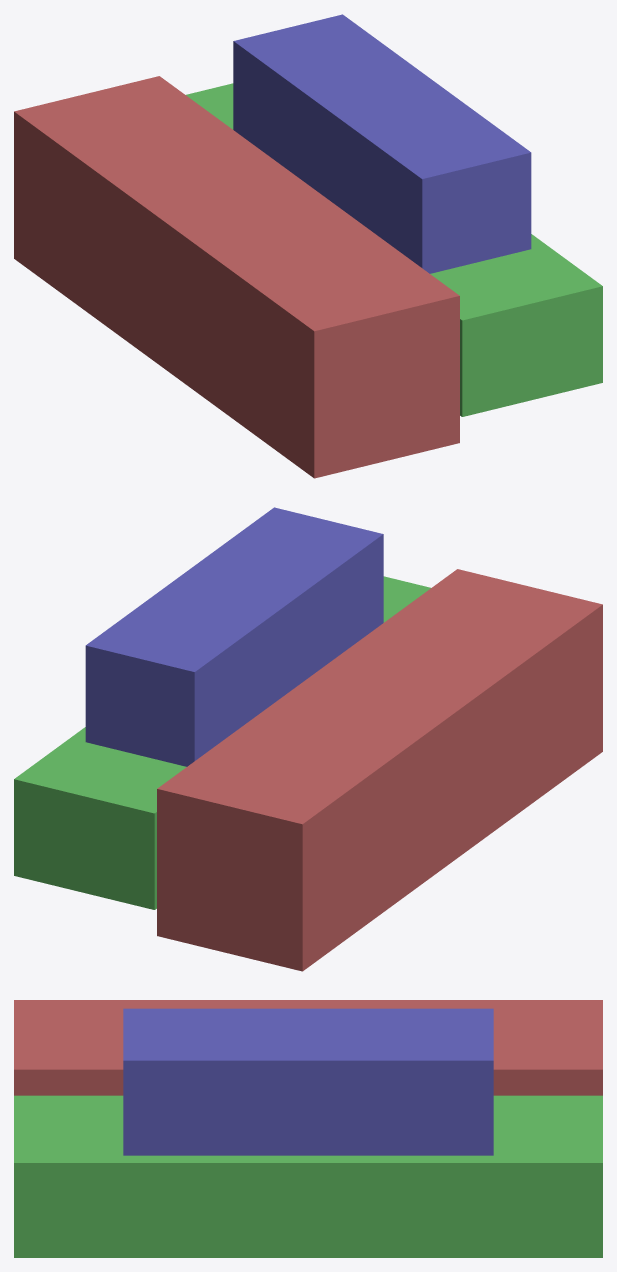
Rendered from Ladda ner pall_2.glb.
3 renders of one model, top to bottom at view 1: azimuth 30°, elevation 25°; view 2: azimuth 150°, elevation 25°; view 3: azimuth 270°, elevation 25°, orthographic.
Parts seen in each view (by area): view 1: world; view 2: world; view 3: world.
Part boxes in pixels (x1,y1,x2,y2): world: [14, 14, 602, 478]; world: [14, 507, 602, 971]; world: [14, 1000, 602, 1257].
Size of the model in its own units: 1194 by 864 by 2152.
